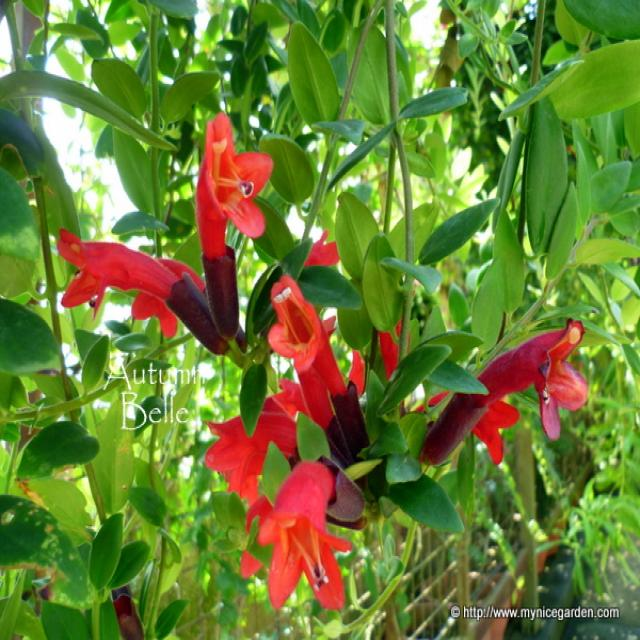Lipstick-Plant: (200, 273, 589, 605), (56, 111, 274, 350)
